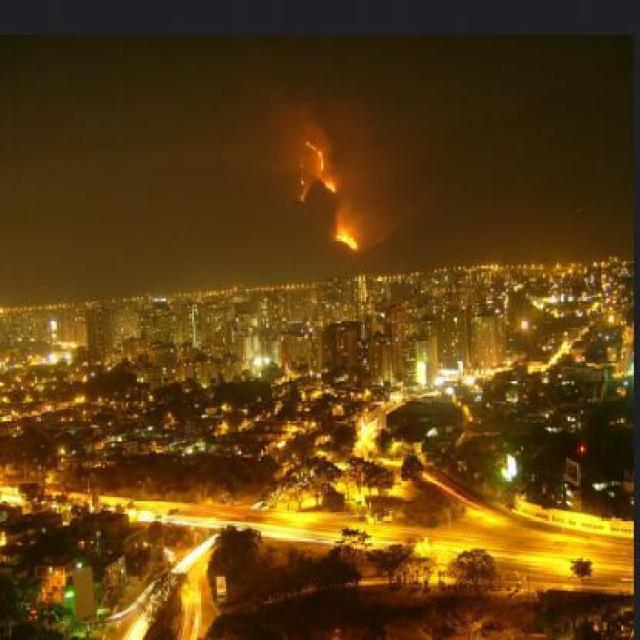Fire: (304, 138, 330, 171), (335, 226, 360, 249), (294, 164, 310, 199), (322, 180, 338, 192)
